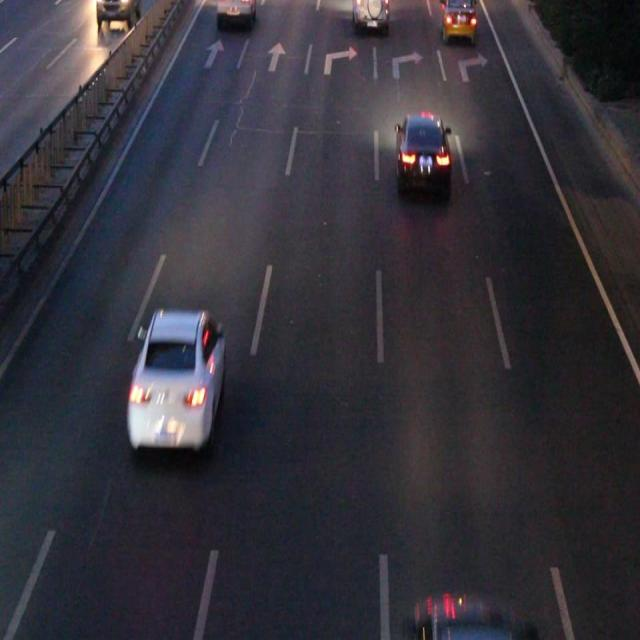car: (130, 311, 222, 445), (408, 598, 534, 640), (395, 116, 449, 192), (442, 1, 474, 38), (353, 1, 386, 24), (218, 1, 253, 20)
